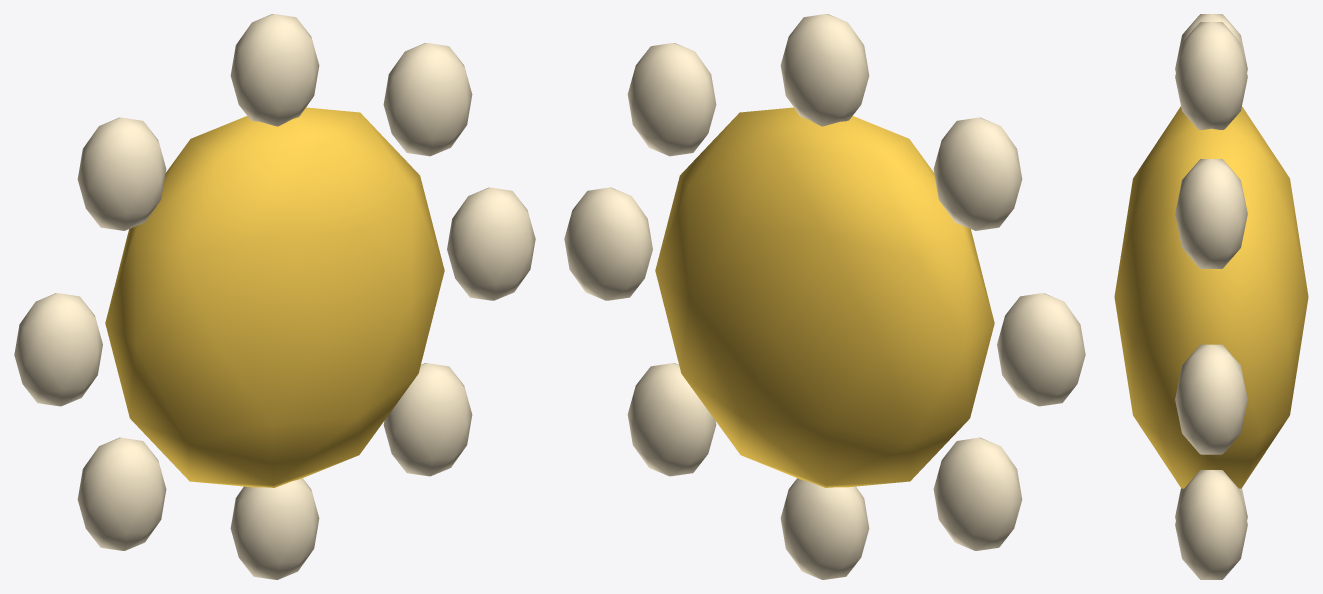
The model's file is SunSeed.fbx.
The picture shows the model from 3 angles, left to right: view 1: azimuth 30°, elevation 25°; view 2: azimuth 150°, elevation 25°; view 3: azimuth 270°, elevation 25°; orthographic projection. The views are drawn at different scales.
Parts seen in each view (by area): view 1: Heart, Ray.001, Ray.005, Ray.007, Ray.002, Ray.006, Ray, Ray.003, Ray.004; view 2: Heart, Ray.001, Ray.005, Ray.007, Ray.002, Ray.006, Ray, Ray.003, Ray.004; view 3: Heart, Ray.002, Ray.001, Ray.003, Ray, Ray.007.
Part boxes in pixels (left/top/right/bottom): Heart: left=105, top=107, right=444, bottom=487; Ray.001: left=383, top=43, right=472, bottom=156; Ray.005: left=77, top=437, right=166, bottom=550; Ray.007: left=77, top=117, right=166, bottom=230; Ray.002: left=447, top=187, right=535, bottom=300; Ray.006: left=14, top=293, right=102, bottom=406; Ray: left=230, top=14, right=319, bottom=126; Ray.003: left=383, top=363, right=472, bottom=476; Ray.004: left=230, top=478, right=319, bottom=579; Heart: left=655, top=107, right=994, bottom=487; Ray.001: left=627, top=43, right=716, bottom=156; Ray.005: left=933, top=437, right=1022, bottom=550; Ray.007: left=933, top=117, right=1022, bottom=230; Ray.002: left=564, top=187, right=652, bottom=300; Ray.006: left=997, top=293, right=1085, bottom=406; Ray: left=780, top=14, right=869, bottom=126; Ray.003: left=627, top=363, right=716, bottom=476; Ray.004: left=780, top=478, right=869, bottom=579; Heart: left=1114, top=106, right=1308, bottom=488; Ray.002: left=1175, top=344, right=1247, bottom=454; Ray.001: left=1175, top=159, right=1247, bottom=268; Ray.003: left=1175, top=470, right=1247, bottom=579; Ray: left=1175, top=22, right=1247, bottom=129; Ray.007: left=1175, top=14, right=1247, bottom=72.
Bounding box in the file's own units: 0.9427 × 1 × 0.32.
